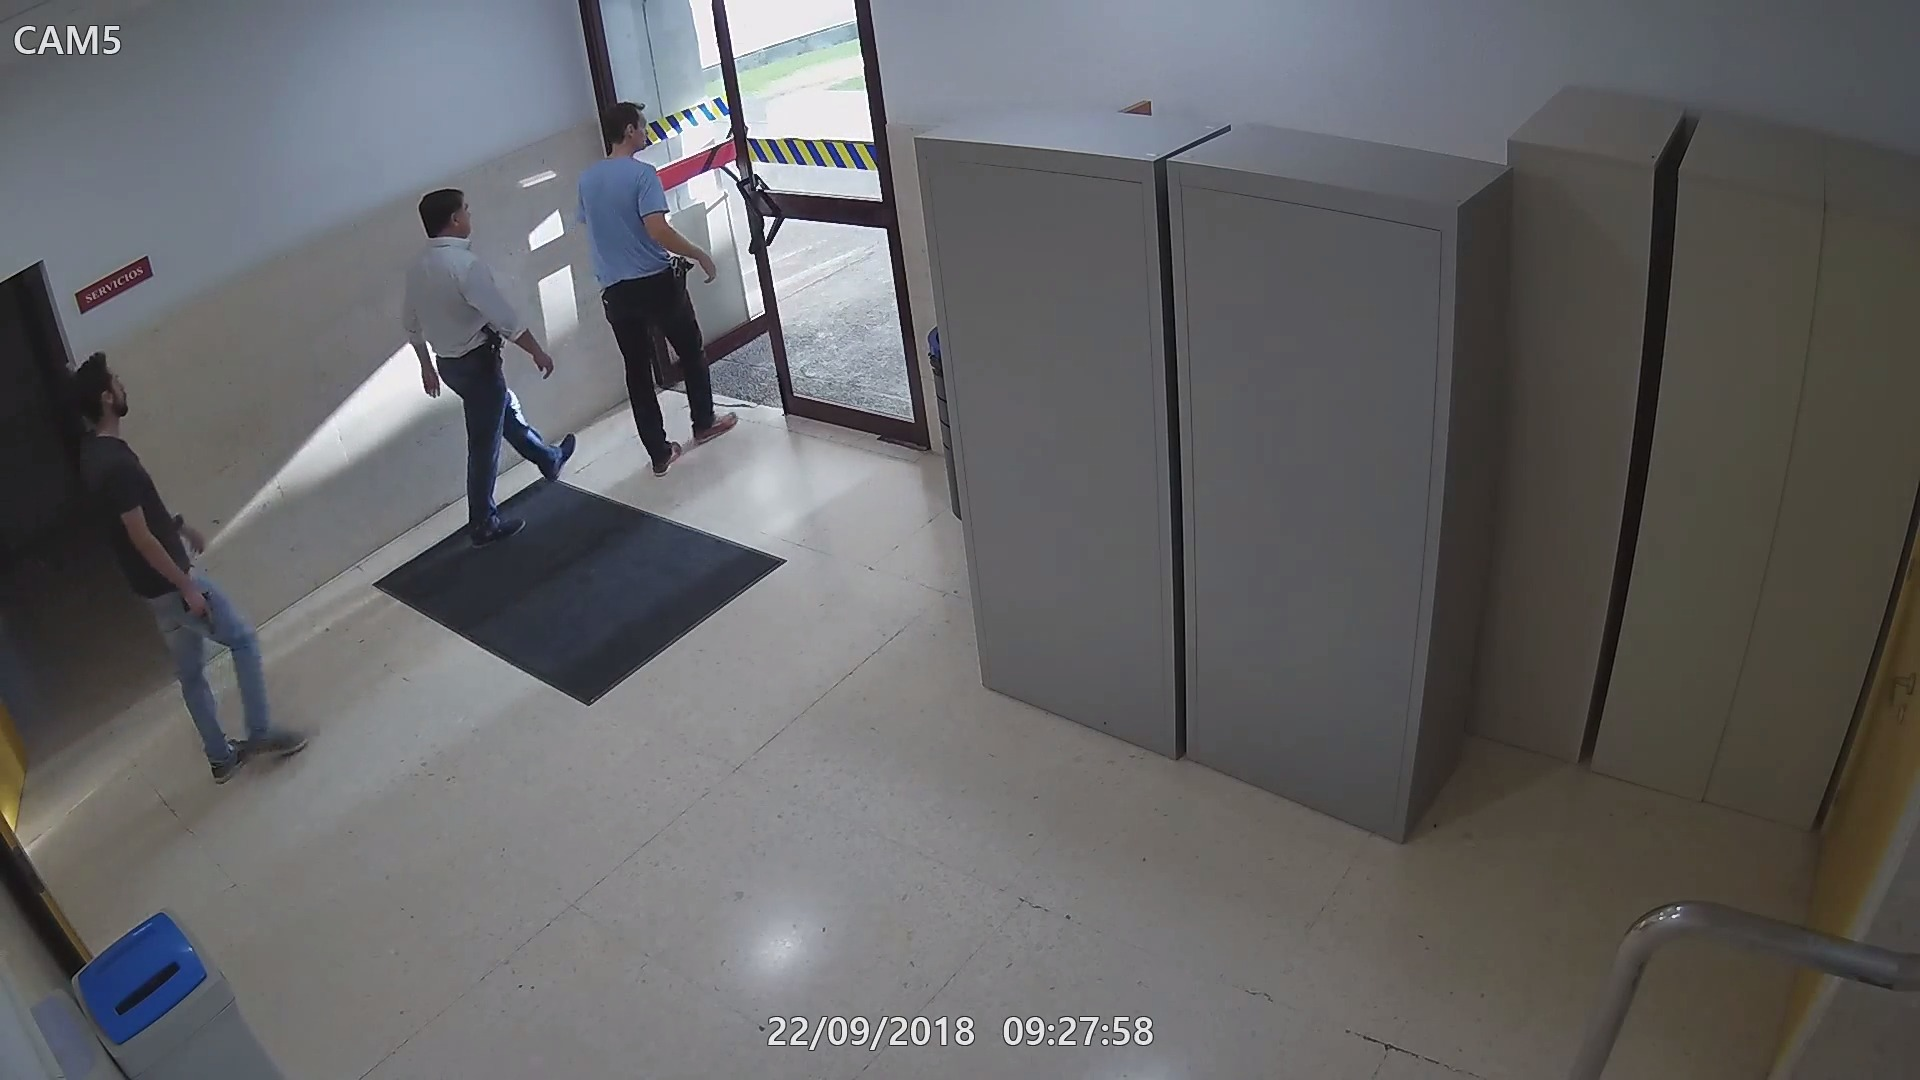Handgun: (178, 589, 220, 634), (477, 319, 506, 376), (663, 252, 691, 301)
